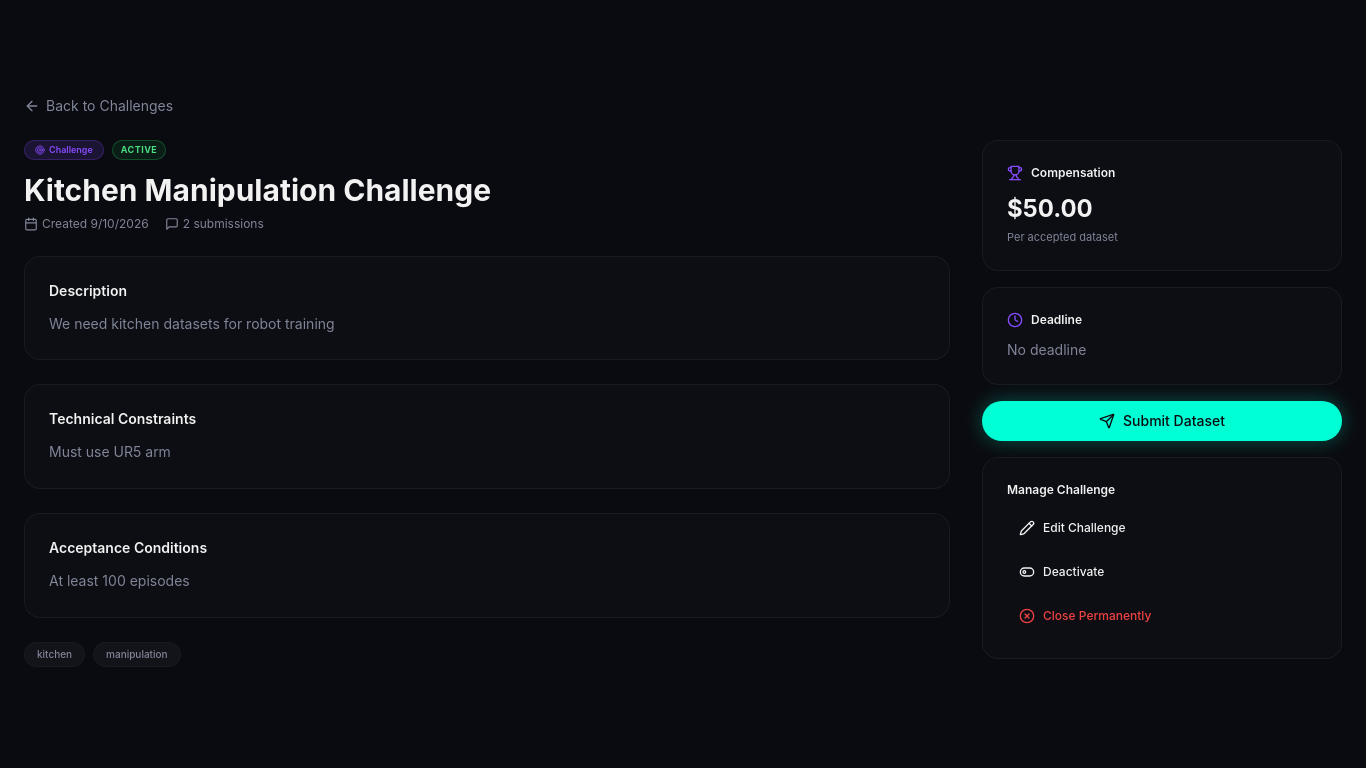
it: ChallengeDetailPage › shows Close Permanently dialog when owner clicks the close button
The image size is (1366, 768).
Click the button "Close Permanently" at (1097, 615), box [1007,598,1317,634]
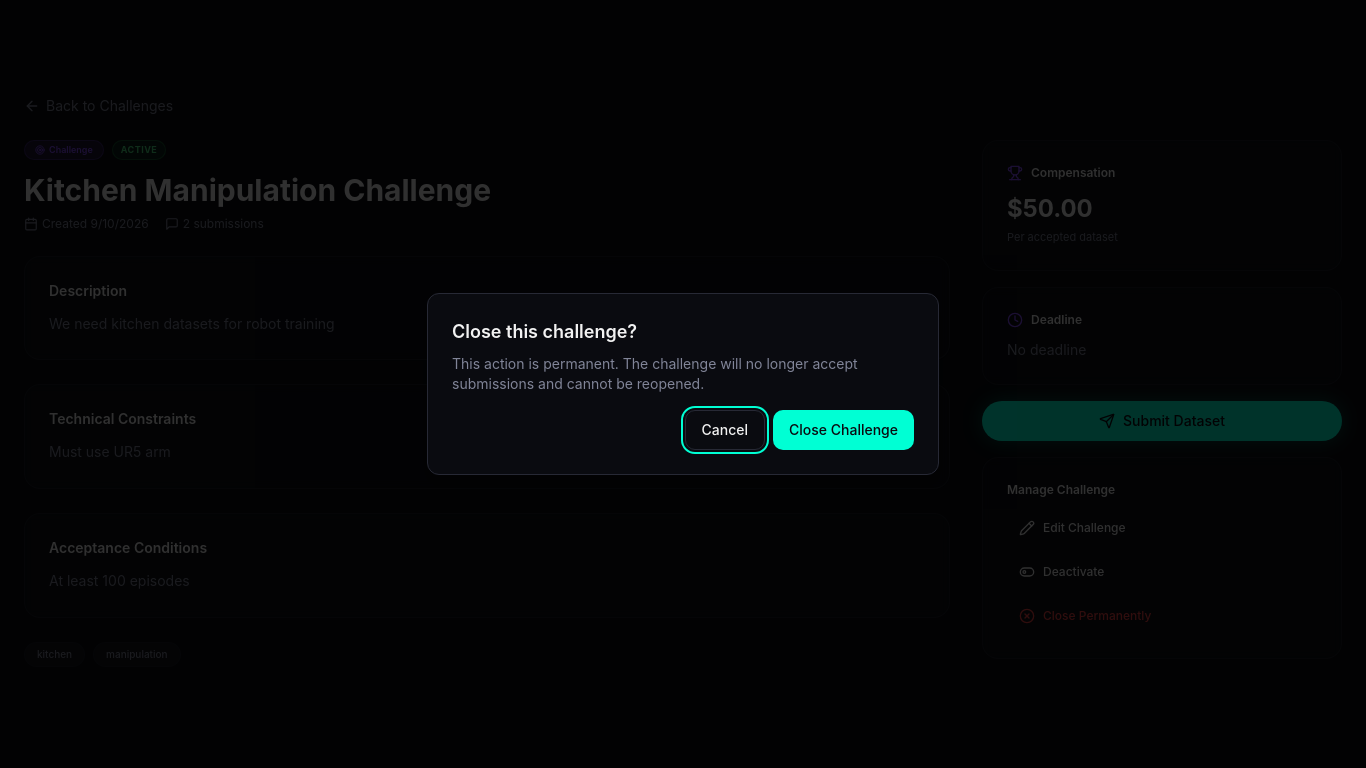
Now the heading "Close this challenge?" is shown, box [452,321,637,342]
